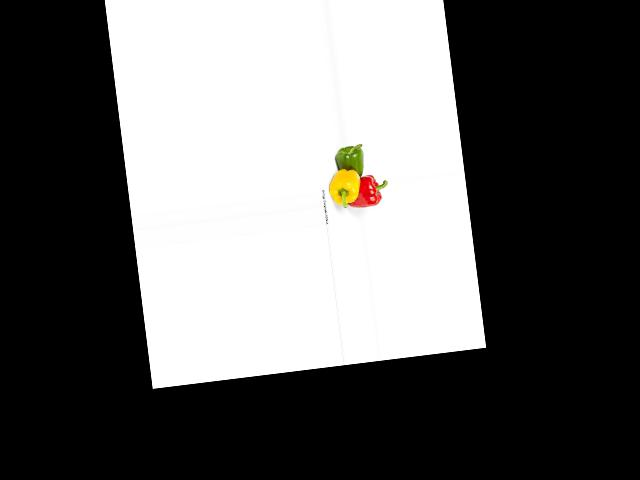bell_pepper: (346, 172, 390, 212)
